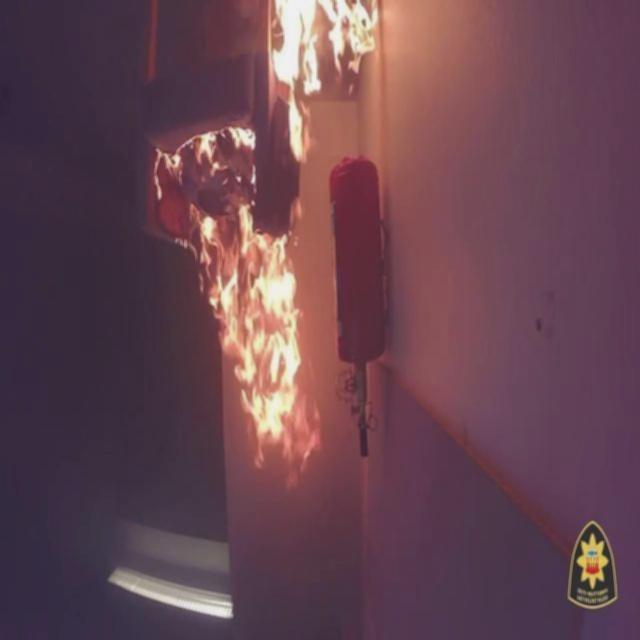fire: (144, 0, 388, 463)
